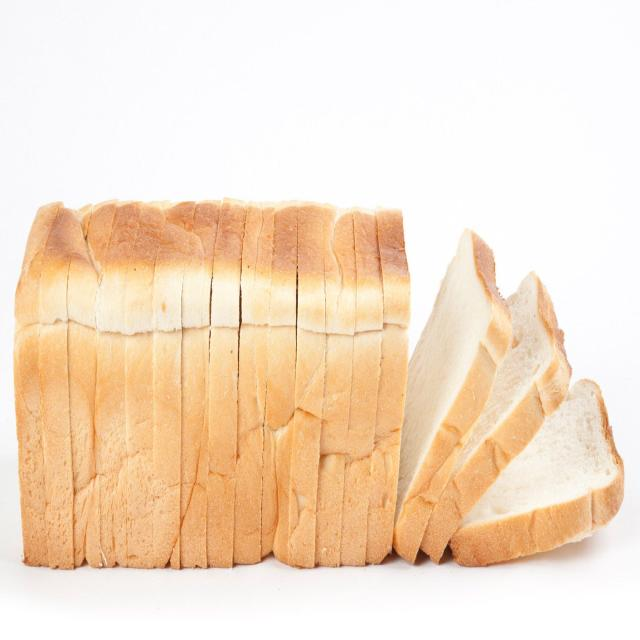Bread: (421, 272, 571, 560), (394, 230, 511, 562), (450, 380, 624, 566)
